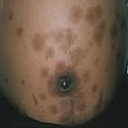Pemphigoid: (35, 19, 101, 120)
